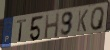5: (28, 14, 45, 42)
9: (59, 10, 75, 37)
H: (44, 12, 61, 40)
K: (76, 9, 89, 34)
Q: (90, 5, 106, 31)
T: (16, 19, 28, 43)
